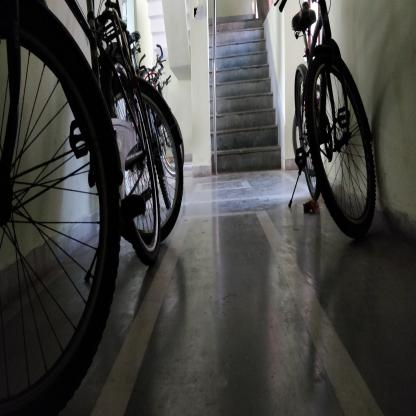stairs: (220, 18, 264, 179)
